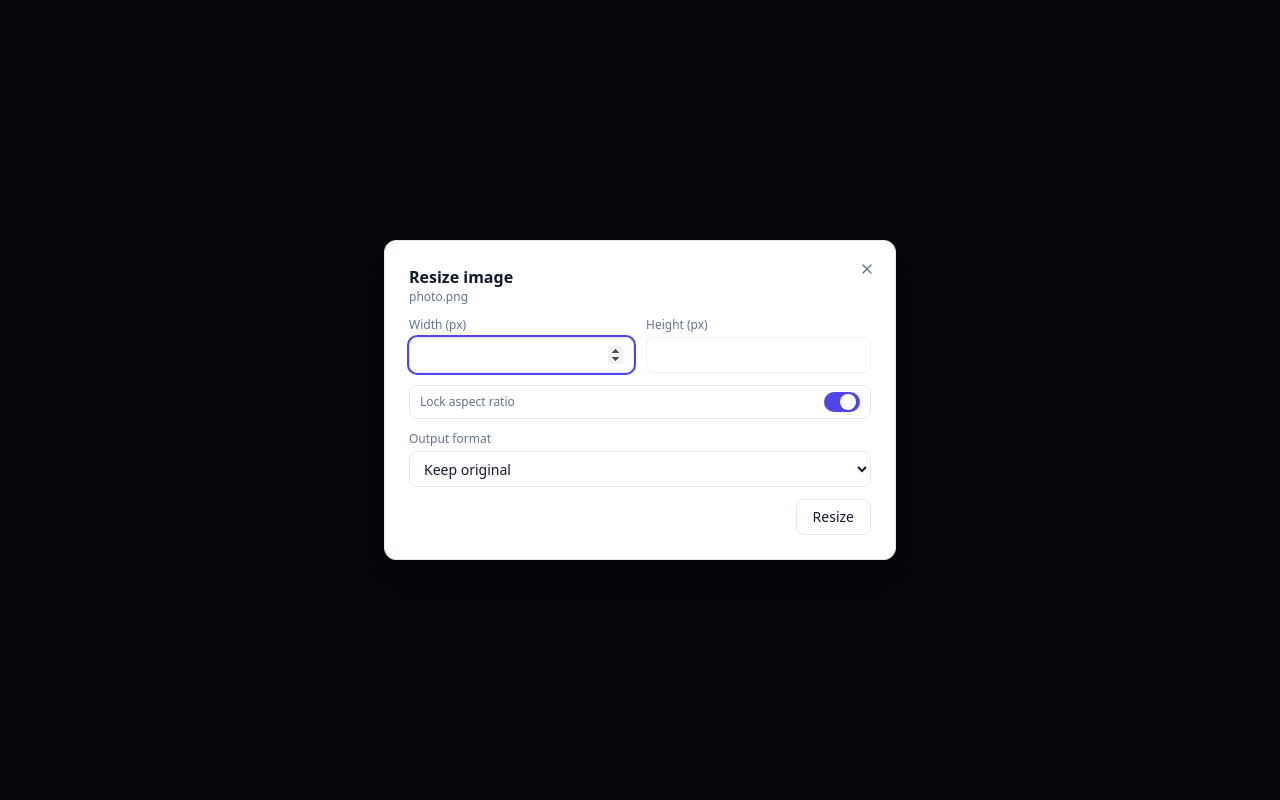
Test case: ResizeImageDialog › surfaces a server error without crashing
The image size is (1280, 800).
Type "200" into the number field labelled "Width (px)". click: [522, 355]
box: top-left (409, 337), bottom-right (634, 373)
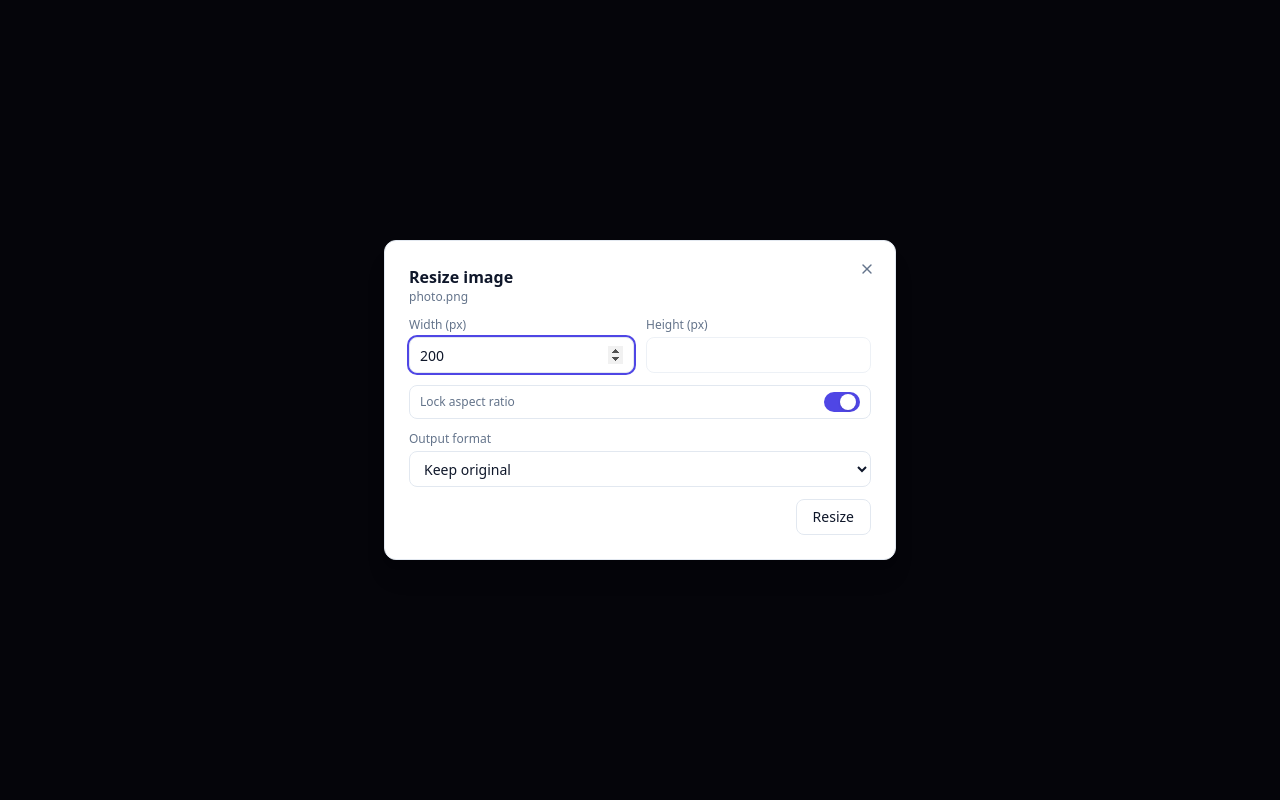
Click the button "Resize". click: [833, 517]
box: top-left (796, 499), bottom-right (871, 535)
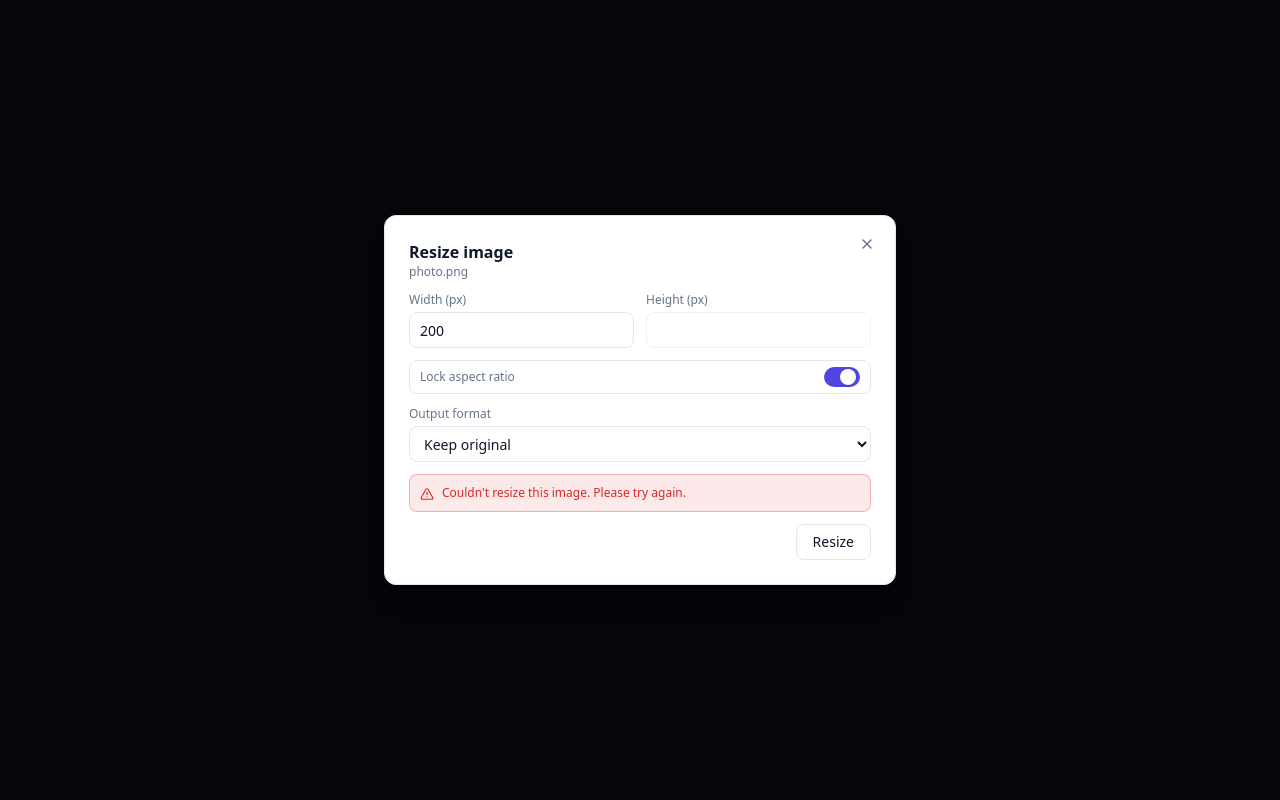
Now the text "Couldn't resize this image. Please try again." is shown, box top-left (442, 485), bottom-right (686, 501)
